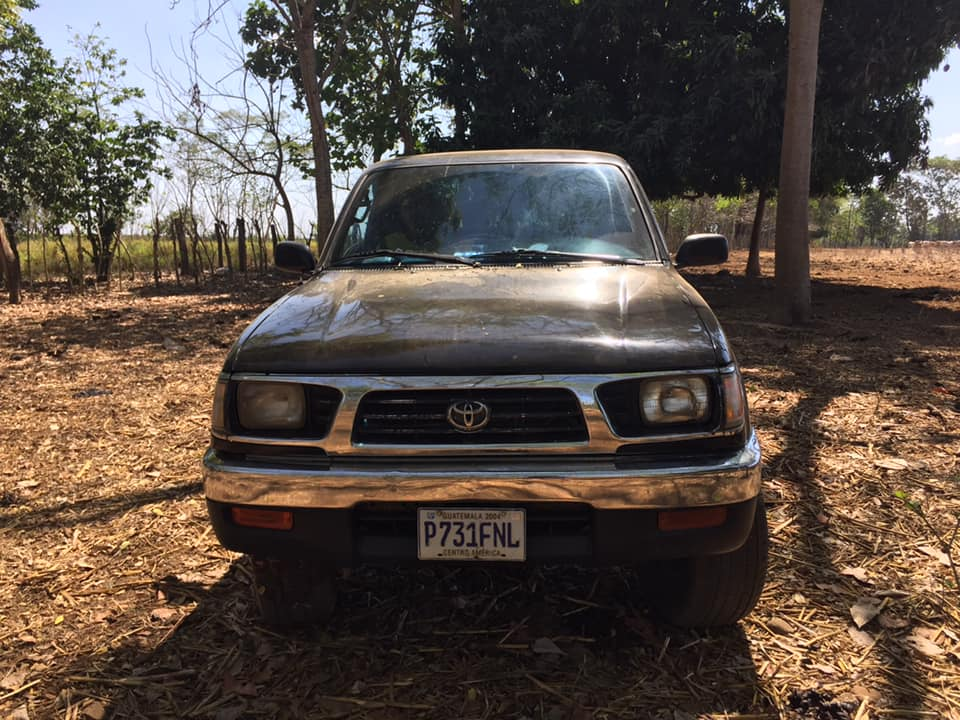pickup: (207, 155, 768, 635)
